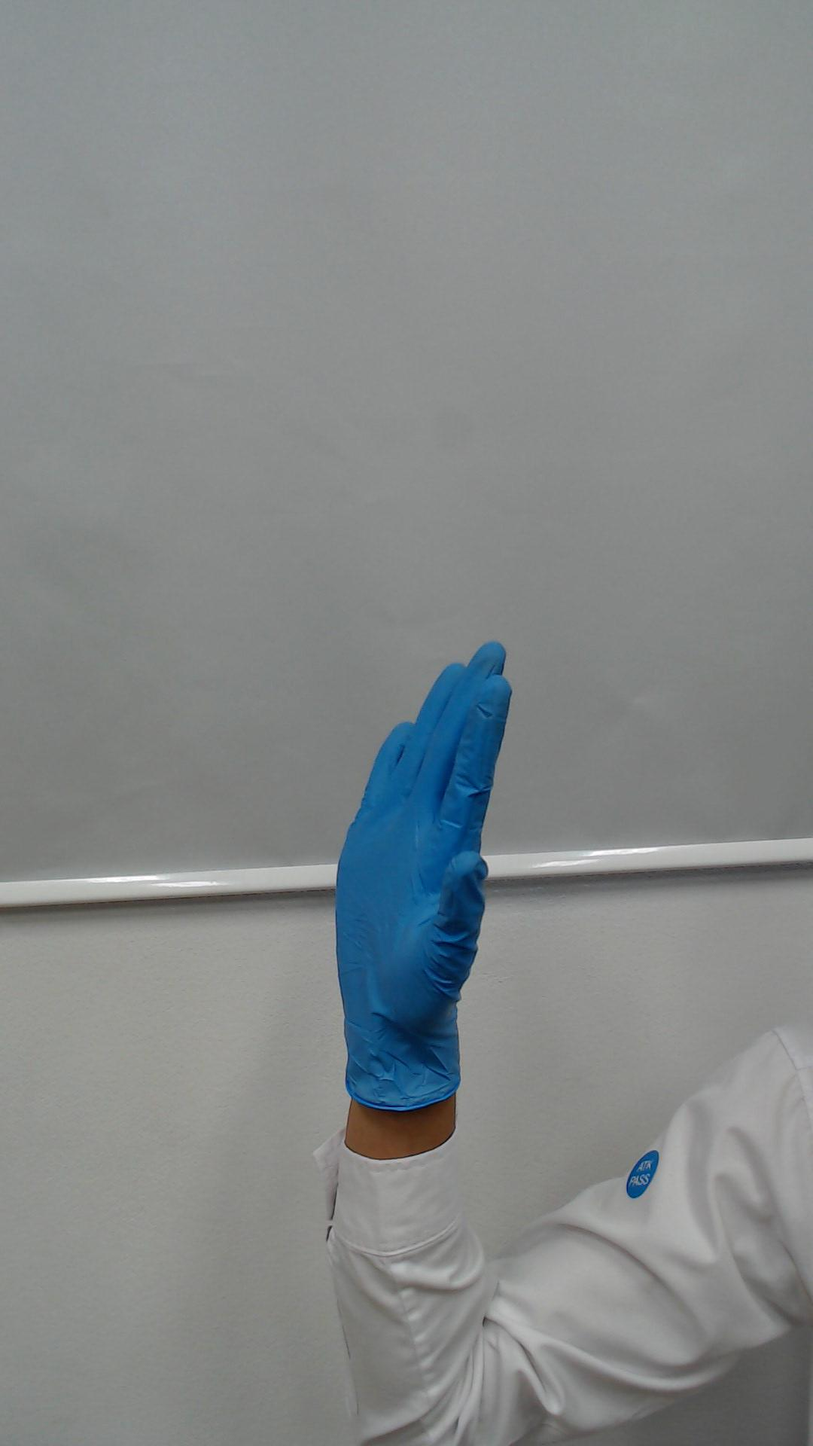gloves: (310, 600, 546, 1003)
